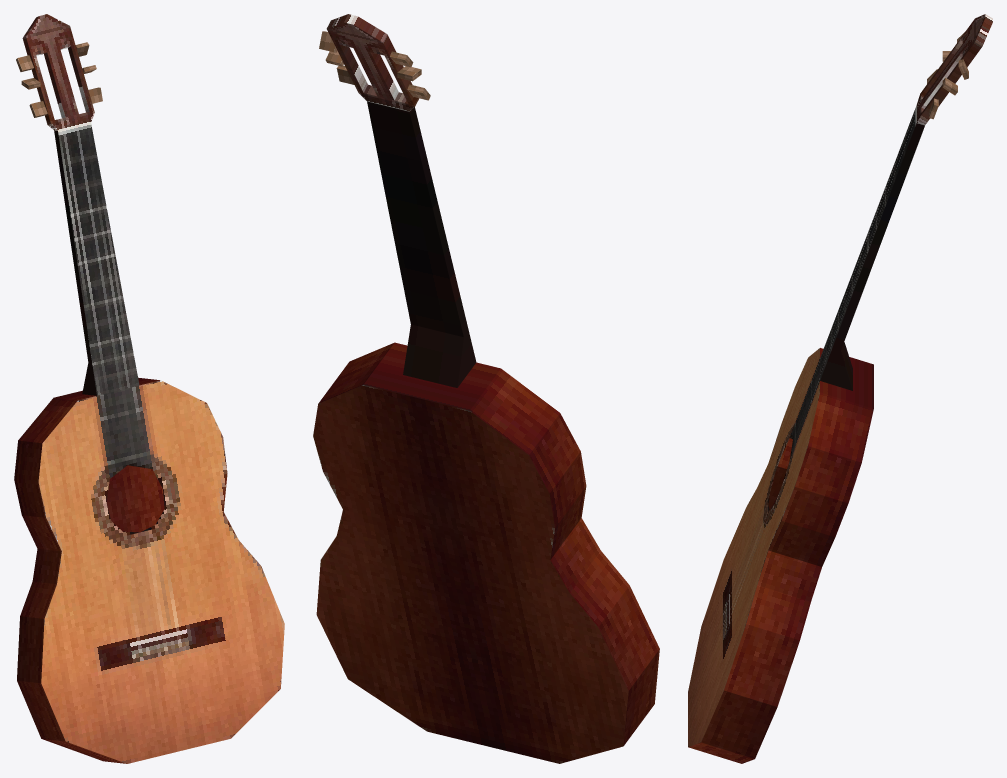
File: classical_guitar_-_ps1_low_poly.glb
3 views of the same model, side by side, from view 1: azimuth 30°, elevation 25°; view 2: azimuth 150°, elevation 25°; view 3: azimuth 270°, elevation 25° (orthographic). The views are drawn at different scales.
Parts seen in each view (by area): view 1: Cube.005; view 2: Cube.005; view 3: Cube.005.
Part boxes in pixels (x1,y1,x2,y2): Cube.005: (14,14,284,763); Cube.005: (313,14,659,763); Cube.005: (688,14,992,763).
Bounding box in the file's own units: 6.31 × 16.16 × 6.2.
Materials: 1 (1 with a texture image).
